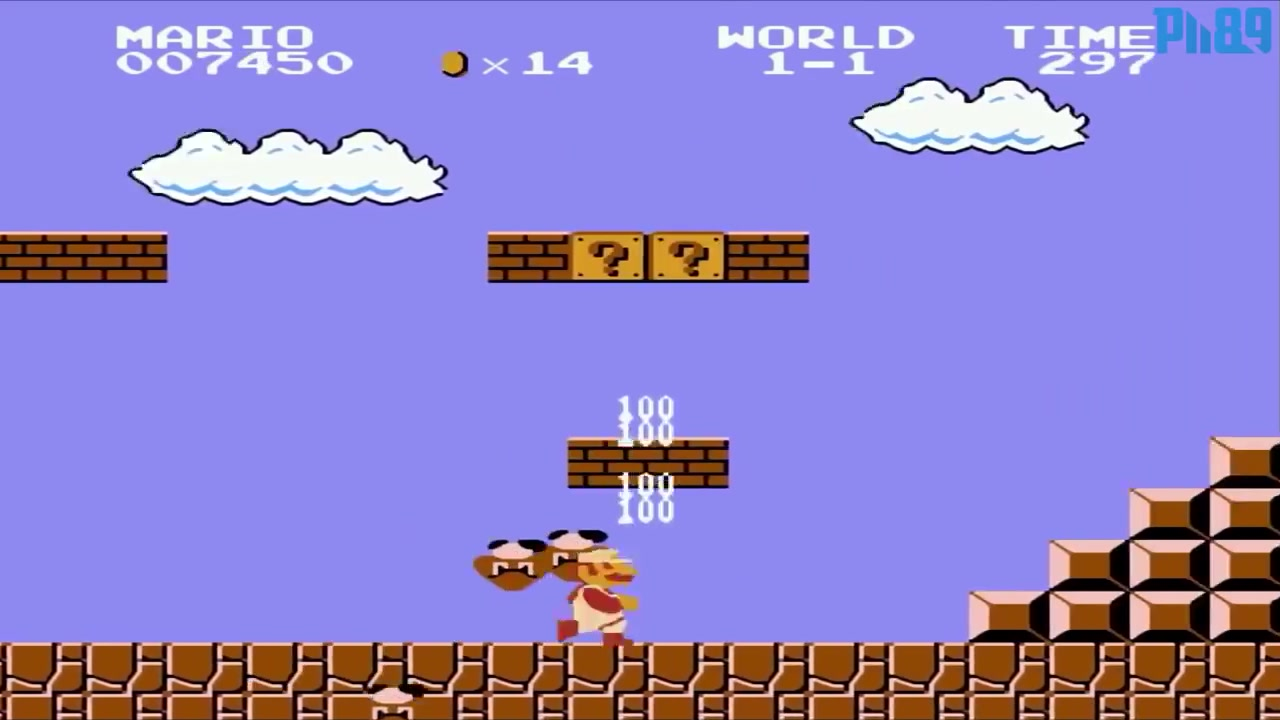mario: (544, 543, 643, 646)
